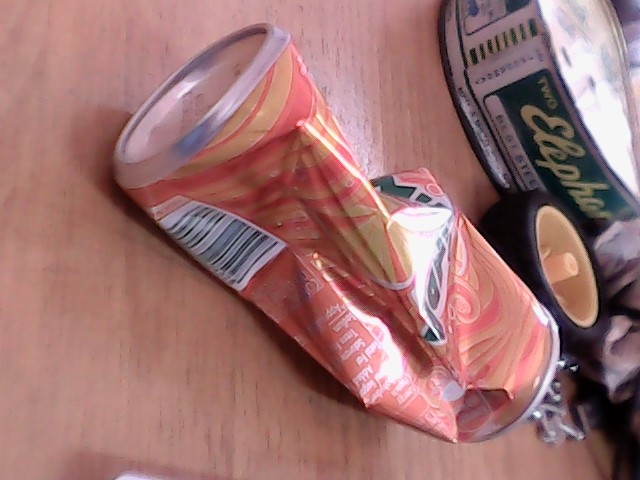Metal: (93, 41, 411, 290)
